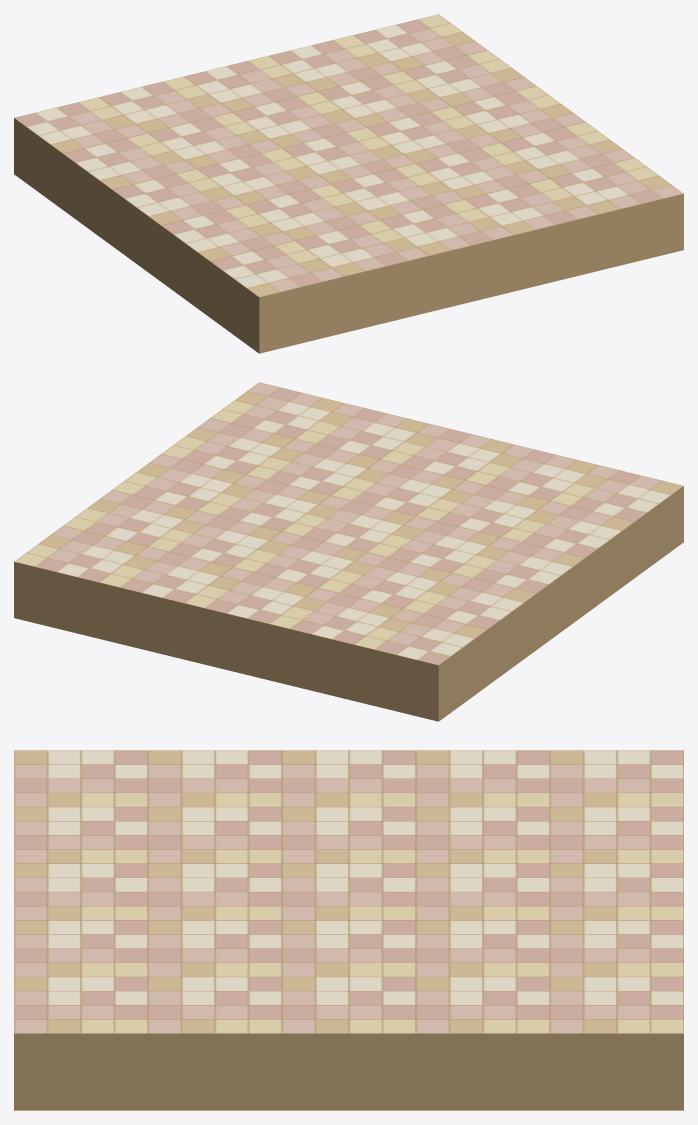
The model's file is laje_calcadao.glb.
3 views of the same model, one above another, from view 1: azimuth 30°, elevation 25°; view 2: azimuth 150°, elevation 25°; view 3: azimuth 270°, elevation 25° (orthographic). The views are drawn at different scales.
Parts seen in each view (by area): view 1: laje_calcadao; view 2: laje_calcadao; view 3: laje_calcadao.
Part boxes in pixels (x1,y1,x2,y2): laje_calcadao: (14,14,683,353); laje_calcadao: (14,382,683,721); laje_calcadao: (14,750,683,1110).
Size of the model in its own units: 15 by 1.9 by 15.
Materials: 2 (2 with a texture image).
